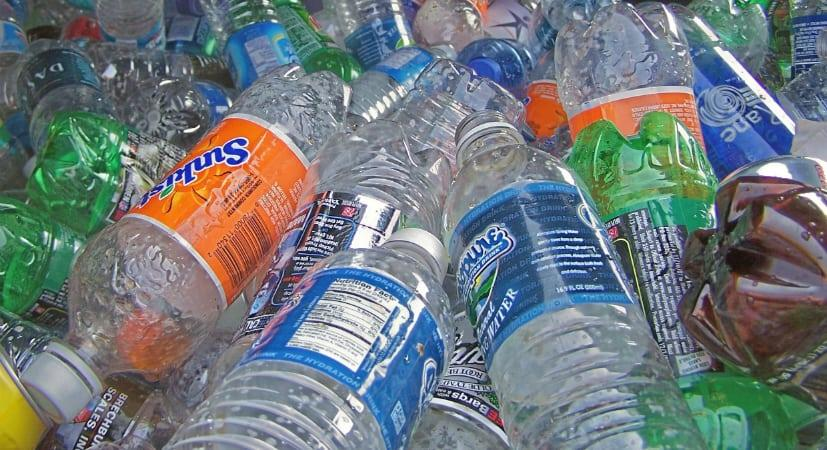plastic: (36, 73, 342, 449), (449, 150, 701, 449), (172, 246, 451, 449), (246, 98, 463, 332), (680, 156, 826, 411), (555, 0, 716, 229), (0, 44, 126, 314)
